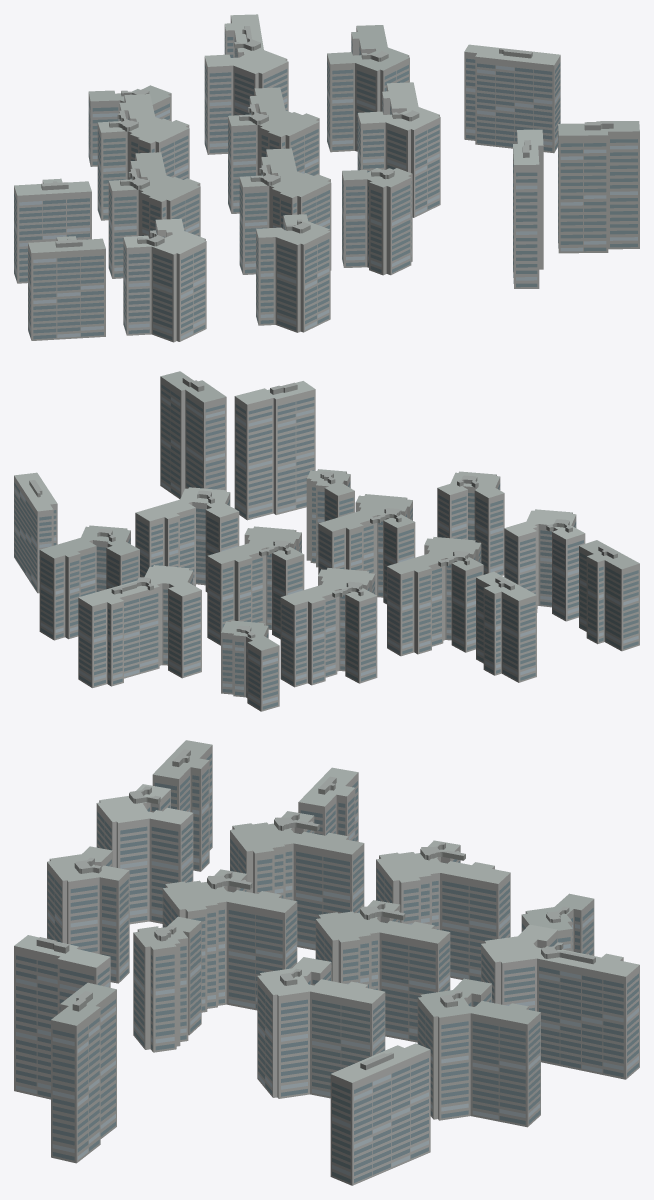
File: apt-a10045002.glb
3 renders of one model, top to bottom at view 1: azimuth 30°, elevation 25°; view 2: azimuth 150°, elevation 25°; view 3: azimuth 270°, elevation 25°, orthographic. The views are drawn at different scales.
Visible parts, largest first — view 1: apt-a10045002; view 2: apt-a10045002; view 3: apt-a10045002.
Boxes of the visible parts, bbox=[...] form: apt-a10045002: bbox=[14, 14, 639, 342]; apt-a10045002: bbox=[14, 371, 639, 711]; apt-a10045002: bbox=[14, 740, 639, 1185].
Bounding box in the file's own units: 293 × 60.35 × 226.
